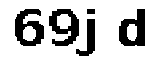6: (13, 7, 45, 51)
9: (46, 9, 79, 48)
d: (114, 7, 148, 51)
j: (78, 9, 105, 59)
